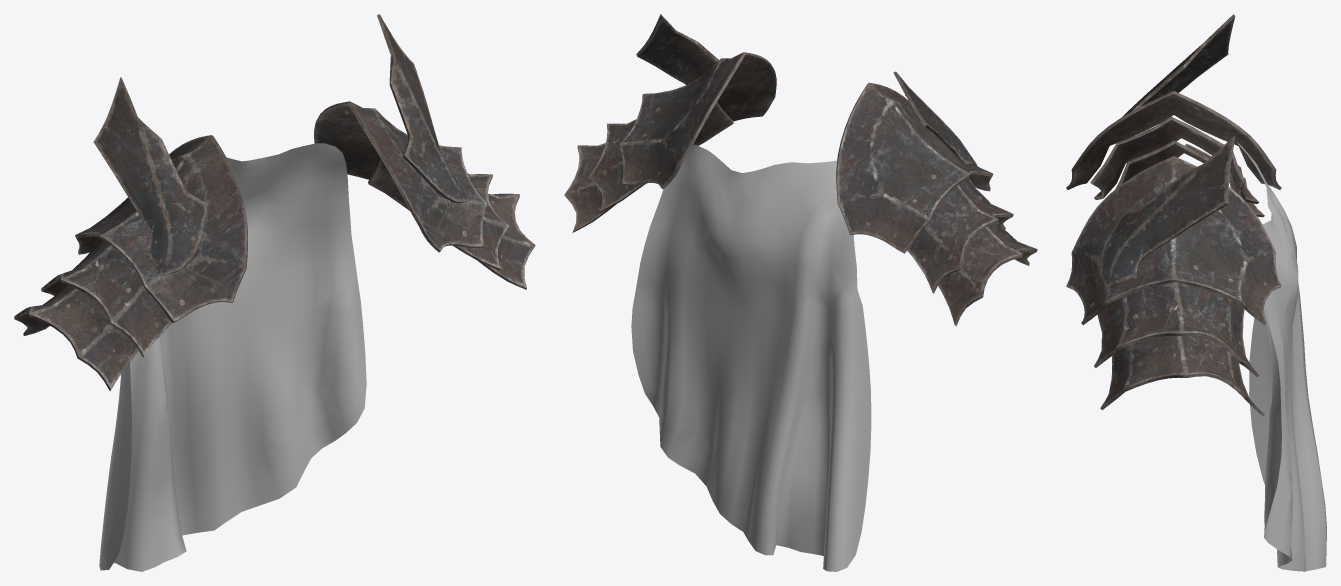
The model's file is sk_dg_uruk_pauldron_elite_cape_e.fbx.
The picture shows the model from 3 angles, left to right: view 1: azimuth 30°, elevation 25°; view 2: azimuth 150°, elevation 25°; view 3: azimuth 270°, elevation 25°; orthographic projection. The views are drawn at different scales.
Parts seen in each view (by area): view 1: sk_dg_uruk_pauldron_elite_cape_e.cape, sk_dg_uruk_pauldron_elite_cape_e; view 2: sk_dg_uruk_pauldron_elite_cape_e.cape, sk_dg_uruk_pauldron_elite_cape_e; view 3: sk_dg_uruk_pauldron_elite_cape_e, sk_dg_uruk_pauldron_elite_cape_e.cape.
Boxes of the visible parts, left/top/right/bottom form: sk_dg_uruk_pauldron_elite_cape_e.cape: left=99, top=143, right=366, bottom=571; sk_dg_uruk_pauldron_elite_cape_e: left=14, top=14, right=535, bottom=390; sk_dg_uruk_pauldron_elite_cape_e.cape: left=631, top=144, right=871, bottom=571; sk_dg_uruk_pauldron_elite_cape_e: left=564, top=14, right=1037, bottom=326; sk_dg_uruk_pauldron_elite_cape_e: left=1066, top=14, right=1281, bottom=416; sk_dg_uruk_pauldron_elite_cape_e.cape: left=1237, top=142, right=1326, bottom=571.
Bounding box in the file's own units: 0.8761 × 0.4168 × 0.8977.
